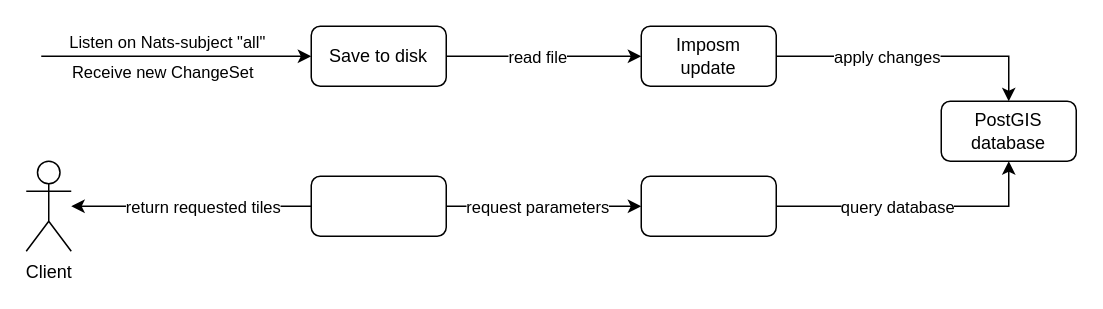
Some shapes in this 1103 by 309 pixel diagram are drawn without their labels. Here are the shapes that lost their labels. From the top down, the centre of each, then its label:
pixel 378 205: Tegola API
pixel 708 205: Tegola
